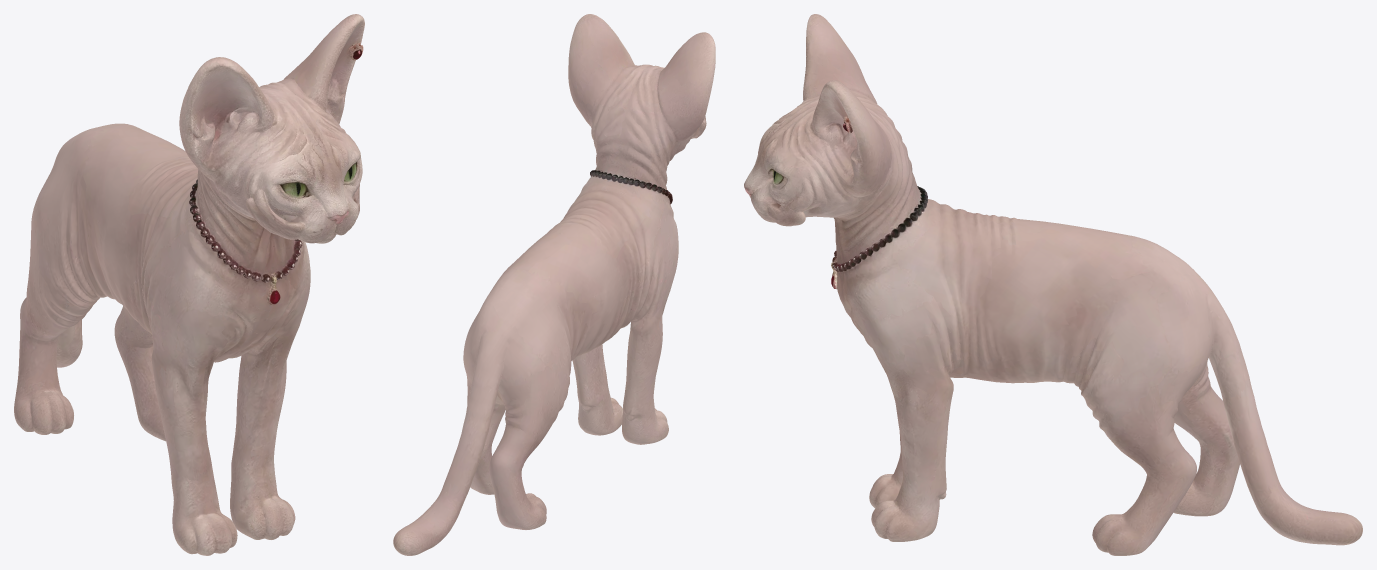
Rendered from meshy-sphynx.glb.
3 views of the same model, side by side, from view 1: azimuth 30°, elevation 25°; view 2: azimuth 150°, elevation 25°; view 3: azimuth 270°, elevation 25° (orthographic). The views are drawn at different scales.
Parts seen in each view (by area): view 1: Mesh_0; view 2: Mesh_0; view 3: Mesh_0.
Part boxes in pixels (box(x1,y1,x2,y2)): Mesh_0: box(14, 14, 364, 555); Mesh_0: box(393, 14, 715, 555); Mesh_0: box(744, 14, 1362, 555).
Size of the model in its own units: 0.5899 by 1.61 by 1.9.
1 material, 1 textured.
